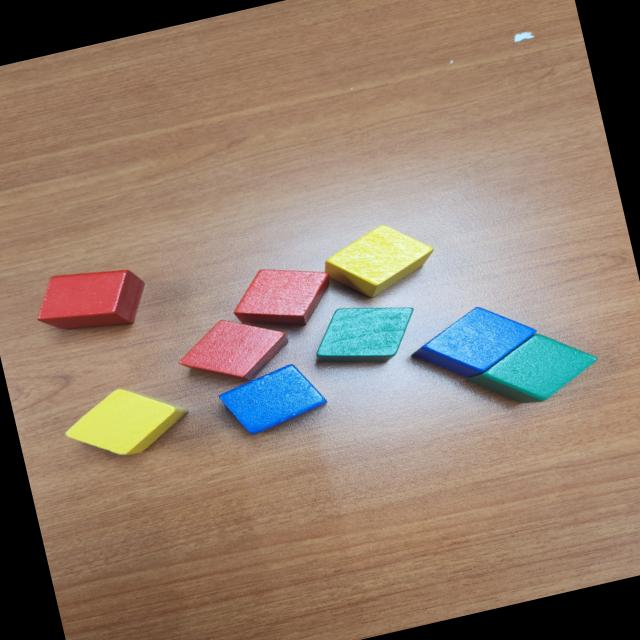blue: (402, 294, 544, 388), (213, 358, 331, 442)
green: (458, 322, 604, 417), (304, 291, 422, 378)
red: (28, 256, 156, 346), (170, 306, 296, 396), (226, 254, 338, 339)
yellow: (56, 372, 196, 468), (317, 214, 442, 307)
